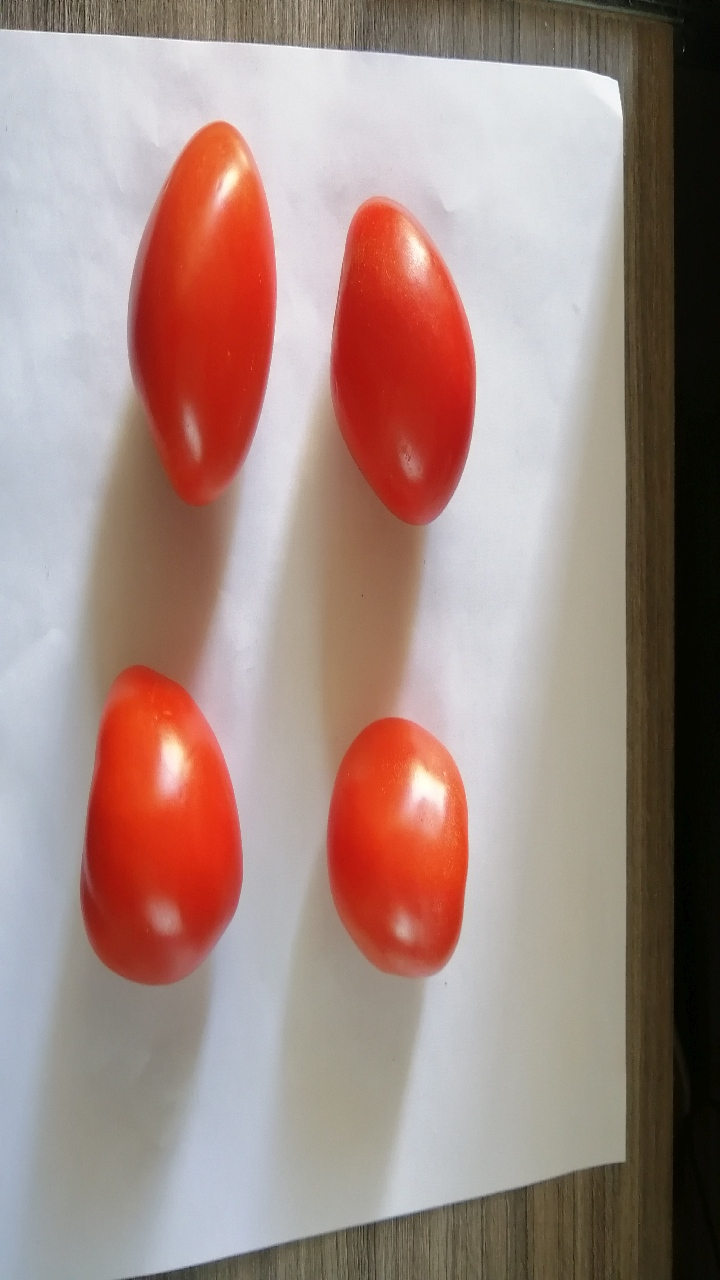tomateRojo: (104, 103, 292, 505), (54, 651, 264, 1002), (306, 166, 498, 546), (323, 699, 497, 1011)
